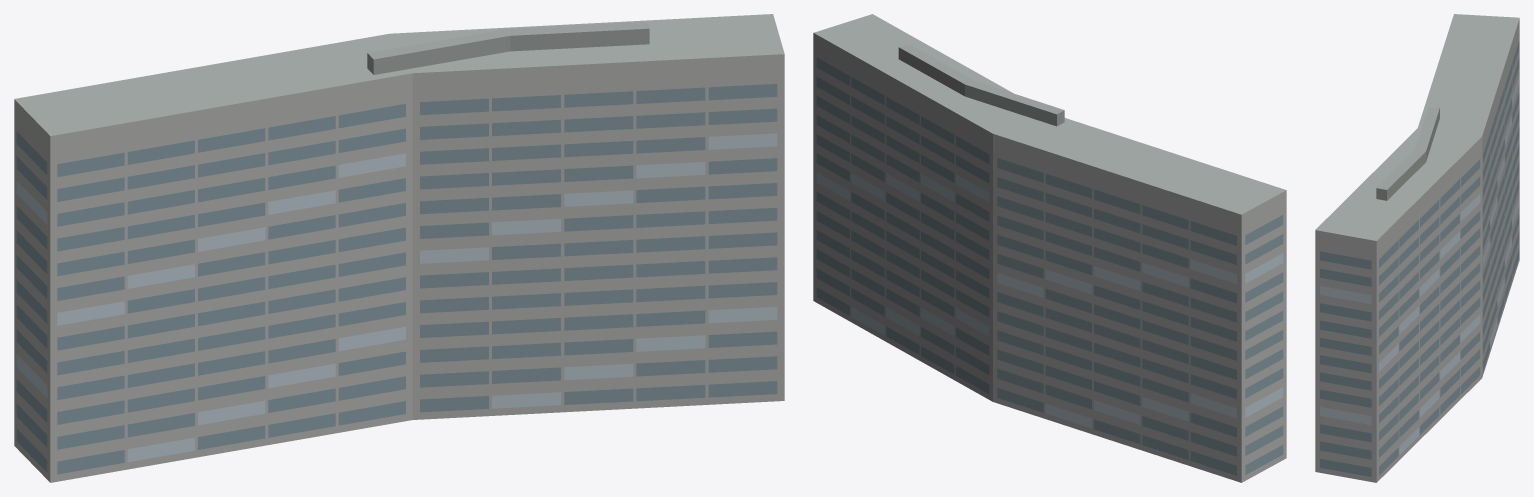
Rendered from fallback-daechi-eunma-27.glb.
3 views of the same model, side by side, from view 1: azimuth 30°, elevation 25°; view 2: azimuth 150°, elevation 25°; view 3: azimuth 270°, elevation 25° (orthographic). The views are drawn at different scales.
Parts seen in each view (by area): view 1: fallback-daechi-eunma-27; view 2: fallback-daechi-eunma-27; view 3: fallback-daechi-eunma-27.
Boxes of the visible parts, box(x1,y1,x2,y2) form: fallback-daechi-eunma-27: box(14, 14, 784, 482); fallback-daechi-eunma-27: box(813, 14, 1286, 482); fallback-daechi-eunma-27: box(1315, 14, 1519, 482).
Size of the model in its own units: 85.97 by 44.62 by 32.74.
